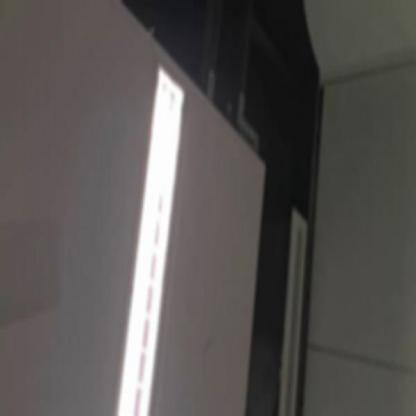light_on: (106, 63, 194, 415)
